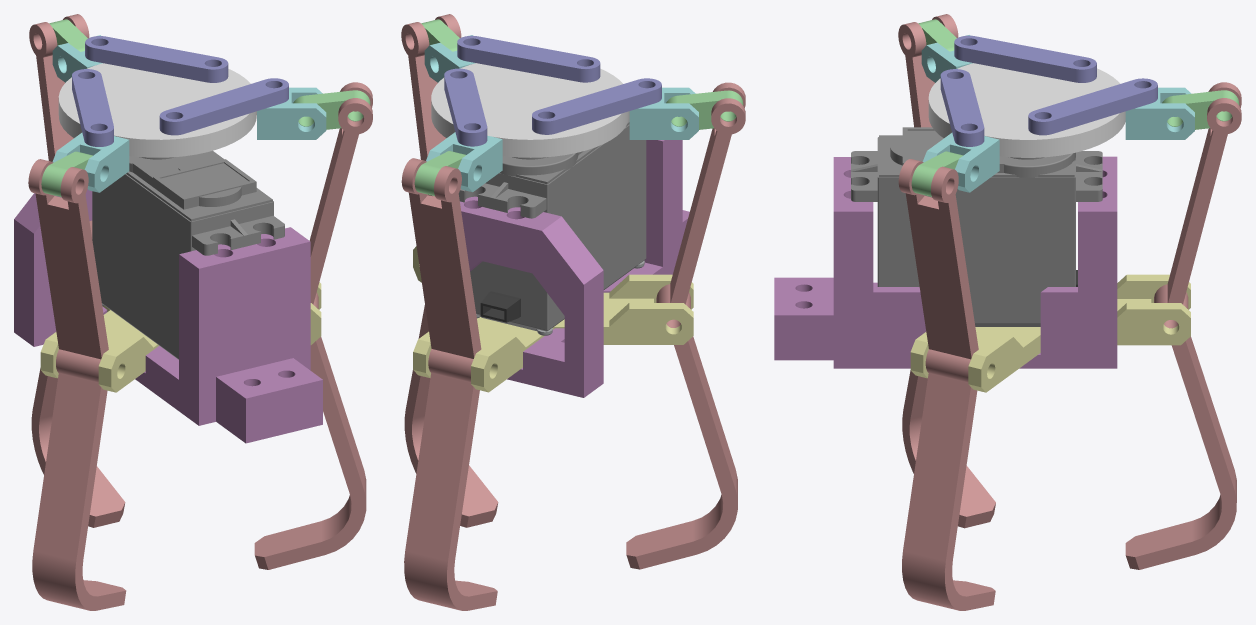
The model's file is manipolatotr.gltf.
3 renders of one model, left to right at view 1: azimuth 30°, elevation 25°; view 2: azimuth 150°, elevation 25°; view 3: azimuth 270°, elevation 25°, orthographic.
Visible parts, largest first — view 1: Servo case-1, GripperFinger-3, TZT MG 996R Servo Motor-1, GripperFinger-2, Tavola rotante-1, GripperFinger-1, GripperHexBase-1, Braccio2-1, Braccio2-2, Braccio1-4, Braccio2-4, Braccio1-6 (+4 smaller); view 2: GripperFinger-1, Servo case-1, TZT MG 996R Servo Motor-1, GripperFinger-3, Tavola rotante-1, GripperHexBase-1, GripperFinger-2, Braccio2-2, Braccio2-4, Braccio1-6, Braccio2-1, Braccio1-1 (+4 smaller); view 3: Servo case-1, TZT MG 996R Servo Motor-1, GripperFinger-2, GripperFinger-1, Tavola rotante-1, GripperHexBase-1, GripperFinger-3, Braccio2-4, Braccio2-1, Braccio1-1, Braccio2-2, Braccio1-4 (+4 smaller).
Part boxes in pixels (box(x1,y1,x2,y2)): Servo case-1: box(14, 189, 322, 443); GripperFinger-3: box(28, 159, 126, 610); TZT MG 996R Servo Motor-1: box(92, 150, 284, 359); GripperFinger-2: box(254, 82, 372, 569); Tavola rotante-1: box(58, 63, 256, 157); GripperFinger-1: box(29, 14, 125, 527); GripperHexBase-1: box(40, 282, 321, 392); Braccio2-1: box(85, 36, 228, 82); Braccio2-2: box(159, 78, 288, 135); Braccio1-4: box(257, 87, 326, 139); Braccio2-4: box(72, 69, 113, 146); Braccio1-6: box(52, 132, 129, 192); GripperFinger-1: box(401, 158, 497, 610); Servo case-1: box(460, 140, 689, 397); TZT MG 996R Servo Motor-1: box(458, 111, 646, 335); GripperFinger-3: box(626, 82, 745, 569); Tavola rotante-1: box(431, 63, 628, 157); GripperHexBase-1: box(413, 246, 693, 392); GripperFinger-2: box(401, 14, 498, 527); Braccio2-2: box(457, 35, 600, 82); Braccio2-4: box(532, 78, 661, 134); Braccio1-6: box(629, 87, 698, 139); Braccio2-1: box(444, 68, 487, 146); Braccio1-1: box(426, 132, 502, 192); Servo case-1: box(774, 156, 1117, 368); TZT MG 996R Servo Motor-1: box(851, 127, 1102, 326); GripperFinger-2: box(898, 159, 995, 610); GripperFinger-1: box(1125, 82, 1241, 569); Tavola rotante-1: box(928, 63, 1125, 157); GripperHexBase-1: box(910, 274, 1190, 392); GripperFinger-3: box(898, 14, 995, 528); Braccio2-4: box(954, 35, 1096, 82); Braccio2-1: box(1028, 78, 1157, 135); Braccio1-1: box(1125, 87, 1194, 139); Braccio2-2: box(940, 69, 984, 146); Braccio1-4: box(922, 132, 999, 192).
Size of the model in its own units: 0.0803 by 0.1064 by 0.0944.
